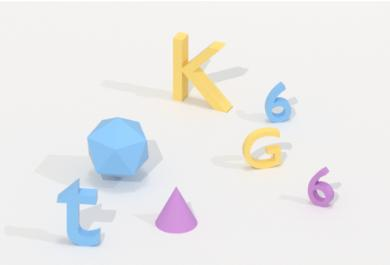0-TamGiac: (150, 184, 202, 237)
0-TronCanh: (83, 113, 152, 183)
6: (262, 78, 295, 127), (305, 164, 338, 211)
G: (239, 123, 286, 173)
K: (170, 27, 236, 116)
t: (55, 175, 106, 250)
